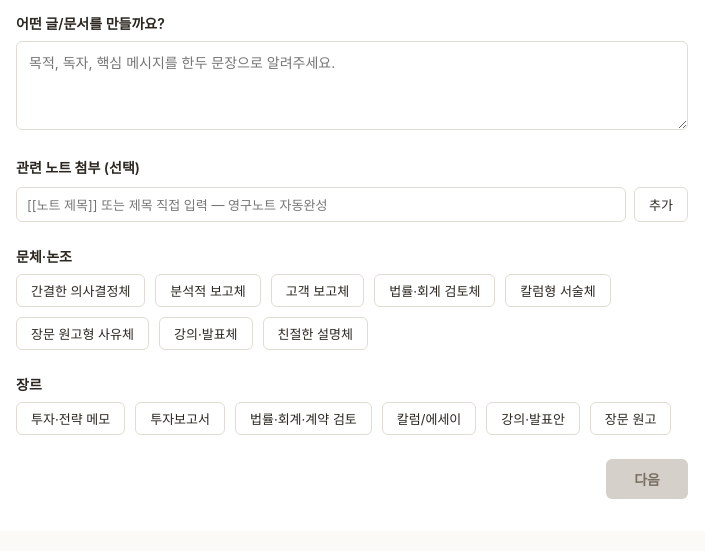
Test: Step1Seed — 노트 첨부 › Enter 키로도 노트를 추가할 수 있다
Step 1. Replace the text in the field with test id "step1-note-input" with "[ [노트B]]" → {"x": 321, "y": 205}, box [16,187,626,222]
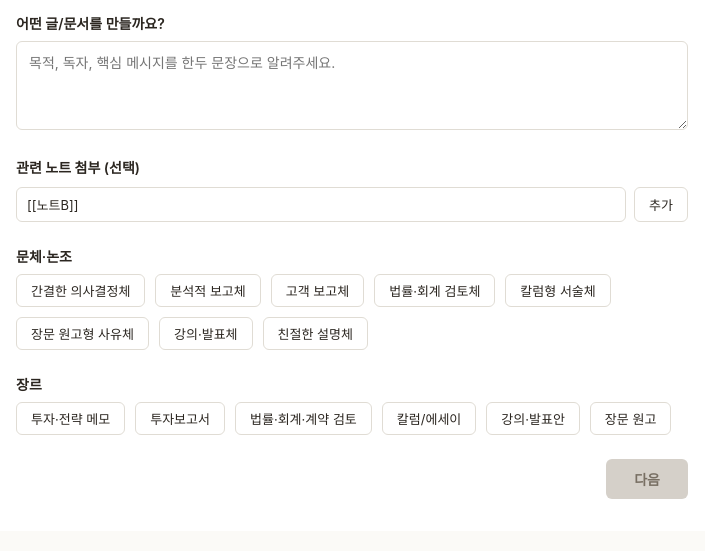
Step 2. Press Enter in the field with test id "step1-note-input", box [16,187,626,222]
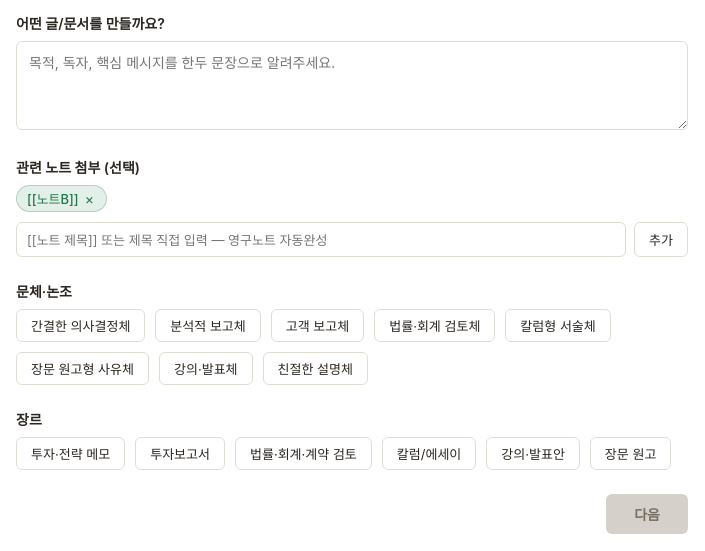
Now the text "[ [노트B]]" is shown, box [27,191,79,207]
